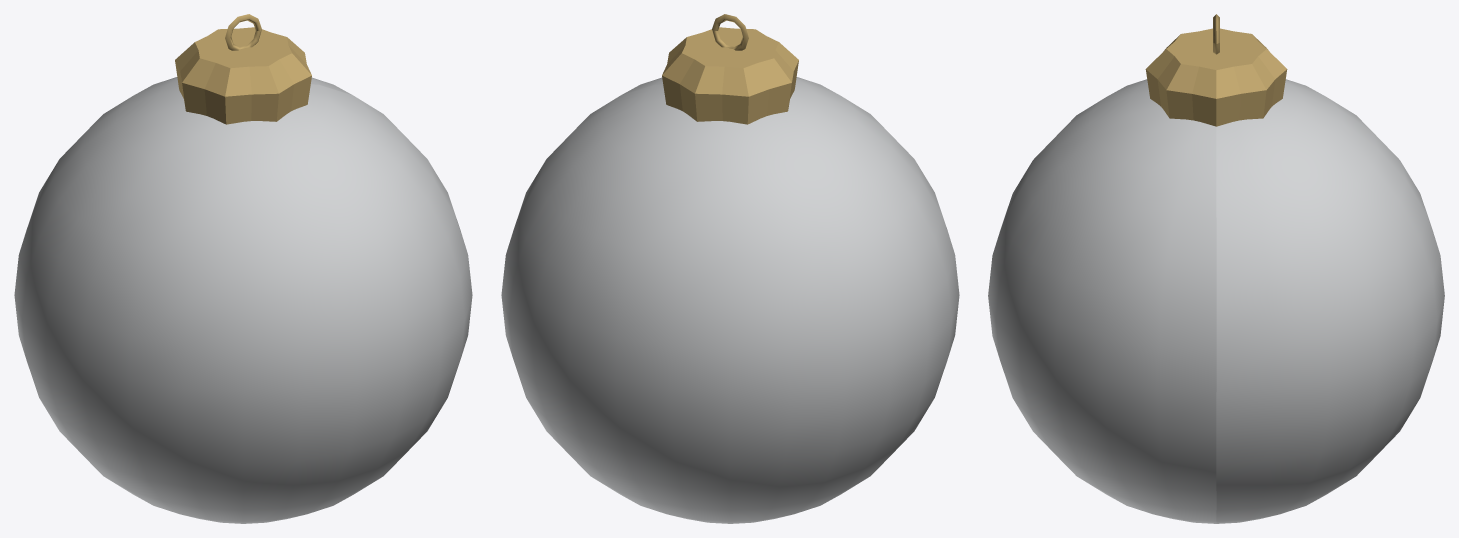
The model's file is prop_schmuck_mirrorball.glb.
3 renders of one model, left to right at view 1: azimuth 30°, elevation 25°; view 2: azimuth 150°, elevation 25°; view 3: azimuth 270°, elevation 25°, orthographic.
Parts seen in each view (by area): view 1: act_orn_mirrorball_mesh; view 2: act_orn_mirrorball_mesh; view 3: act_orn_mirrorball_mesh.
Boxes of the visible parts, x1,y1,x2,y2 form: act_orn_mirrorball_mesh: (14, 14, 472, 523); act_orn_mirrorball_mesh: (501, 14, 959, 523); act_orn_mirrorball_mesh: (988, 14, 1444, 523).
Bounding box in the file's own units: 0.18 × 0.2113 × 0.18.
